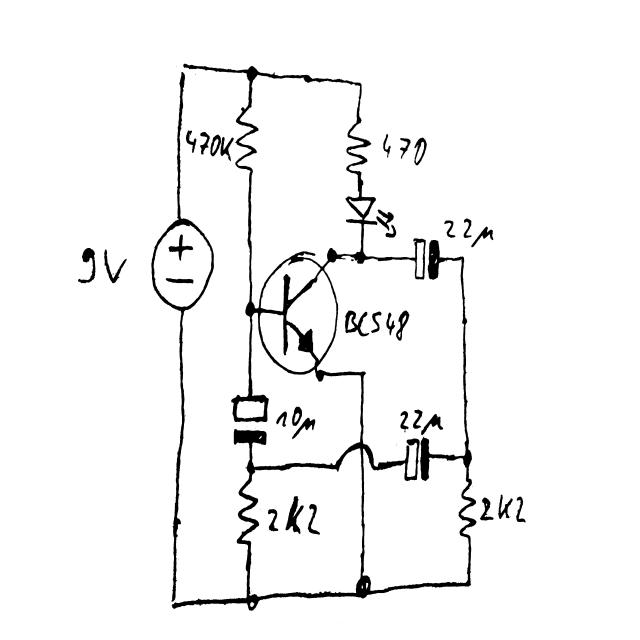capacitor: (230, 394, 270, 447), (412, 237, 441, 283), (403, 437, 431, 483)
crossover: (333, 441, 379, 475)
diode: (345, 194, 398, 240)
junction: (354, 574, 374, 602), (167, 591, 183, 613), (242, 299, 257, 322), (244, 591, 259, 612), (326, 245, 340, 267), (244, 66, 260, 85), (352, 249, 368, 268), (243, 459, 258, 477), (460, 451, 474, 470), (352, 78, 366, 95), (455, 252, 468, 270), (314, 368, 327, 385), (463, 576, 476, 592), (178, 61, 190, 78), (356, 368, 369, 383)
resistor: (234, 102, 259, 175), (345, 114, 372, 178), (236, 478, 260, 550), (458, 477, 478, 543)
source: (150, 217, 216, 315)
text: (267, 494, 323, 537), (344, 310, 412, 342), (77, 246, 128, 287), (185, 129, 234, 164), (381, 131, 428, 167), (480, 493, 528, 526), (444, 217, 495, 248), (276, 405, 316, 440), (398, 408, 444, 436)
transistor: (258, 249, 339, 380)
